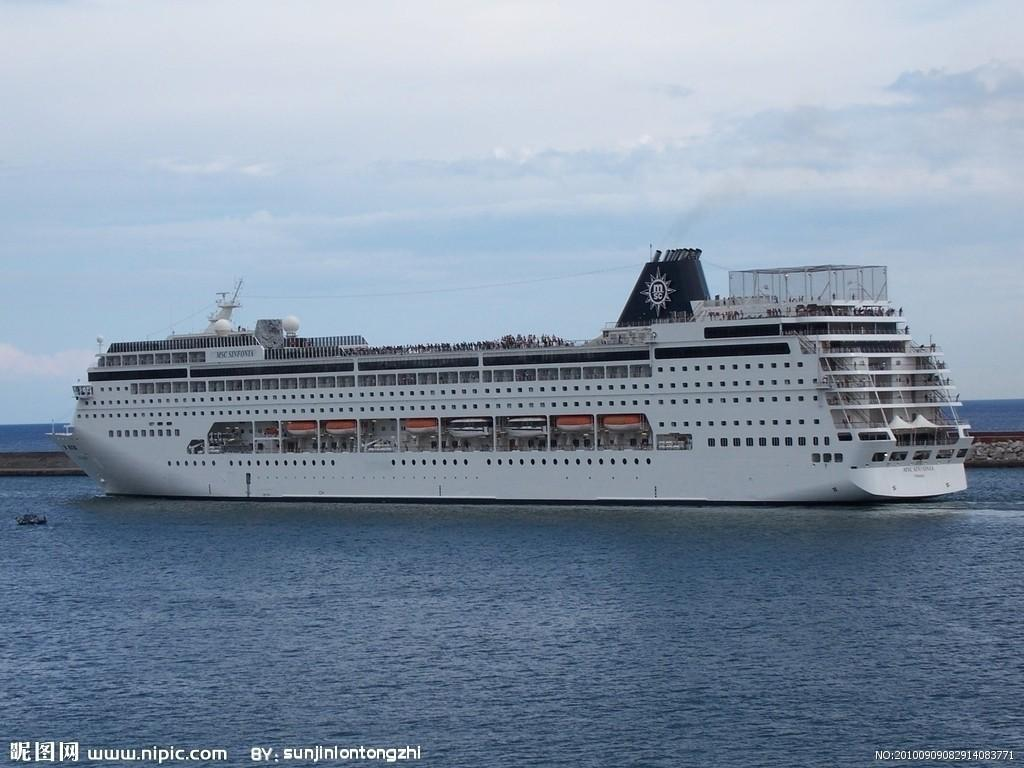youlun: (39, 235, 975, 512)
